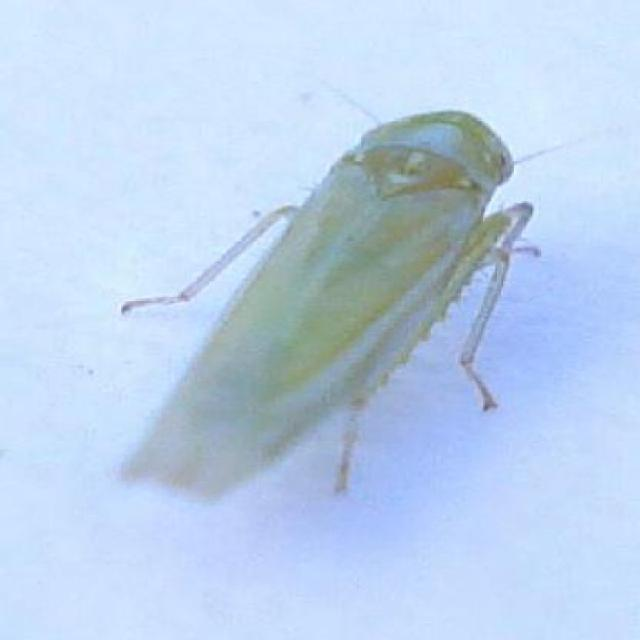green-leafhopper: (119, 108, 548, 500)
